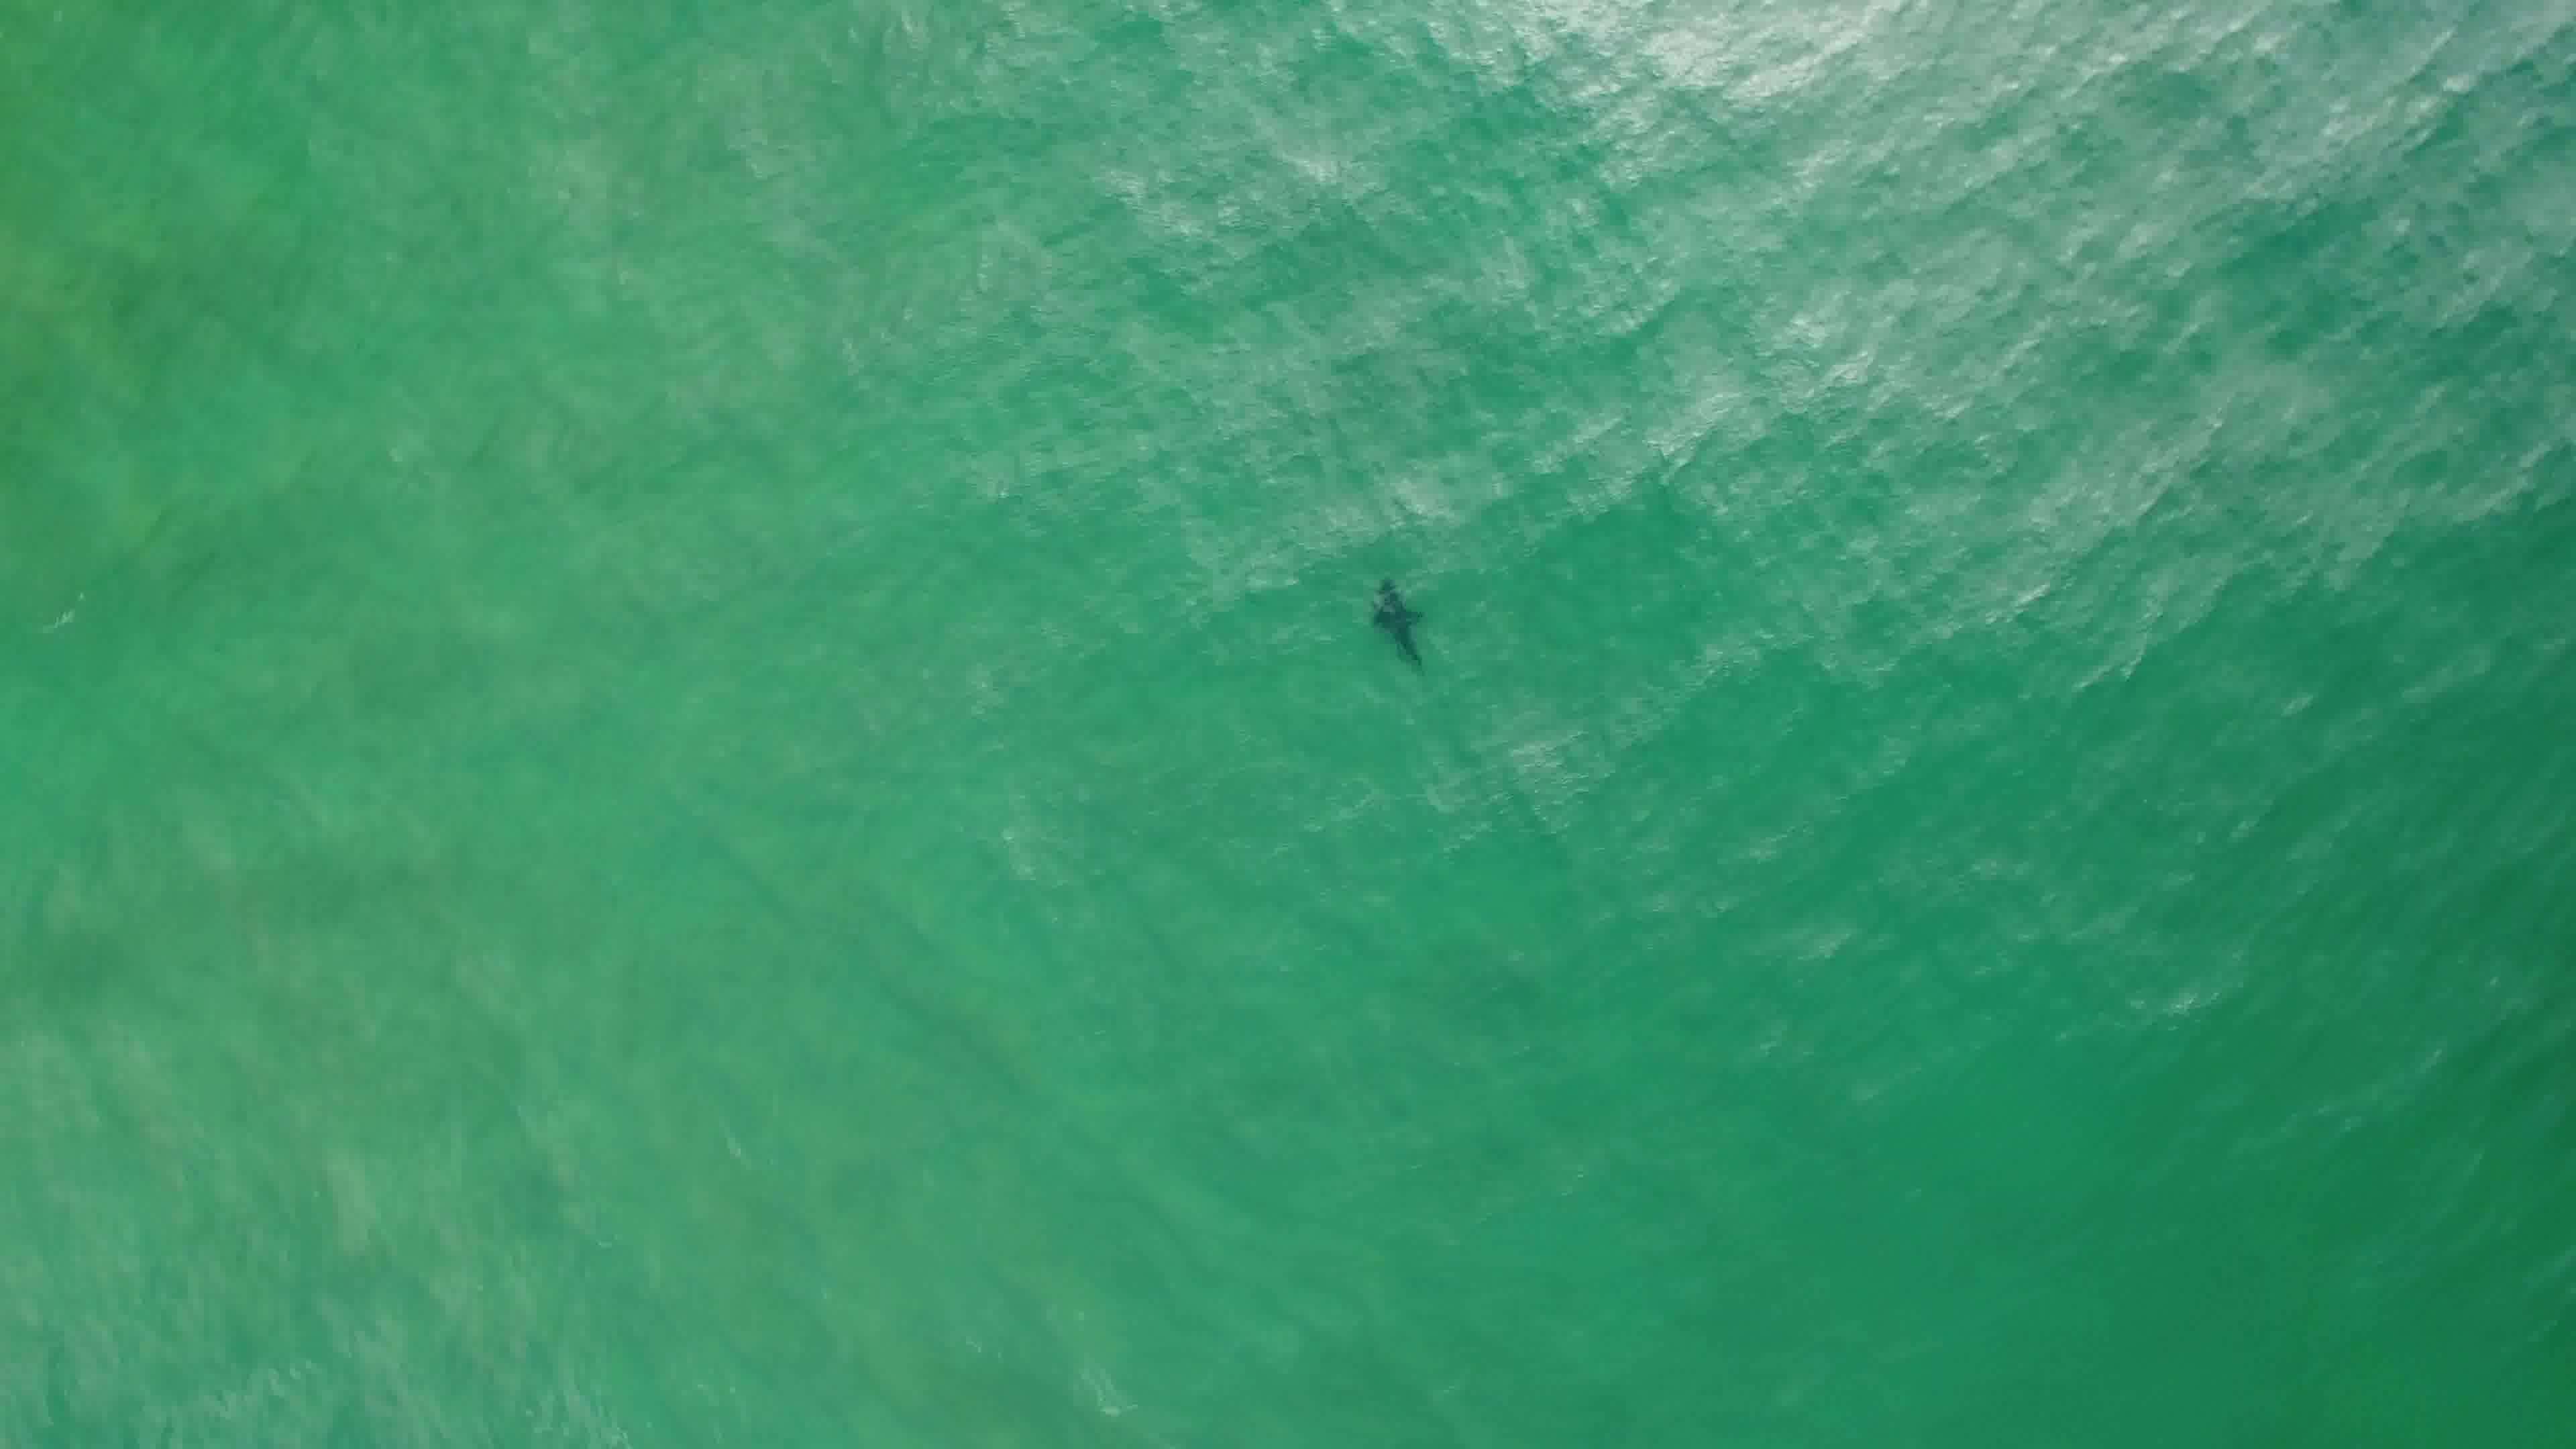shark: (1355, 571, 1440, 686)
